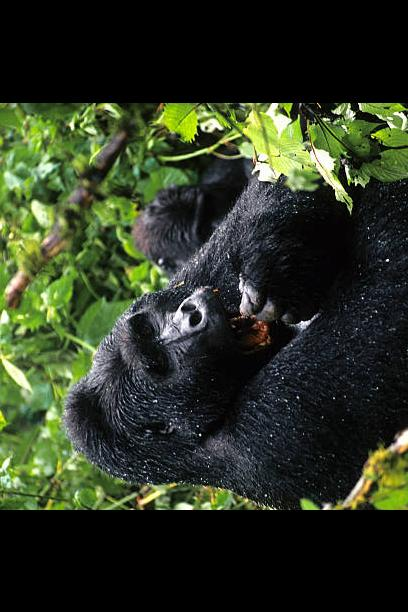goriile_montagne: (55, 208, 408, 488)
